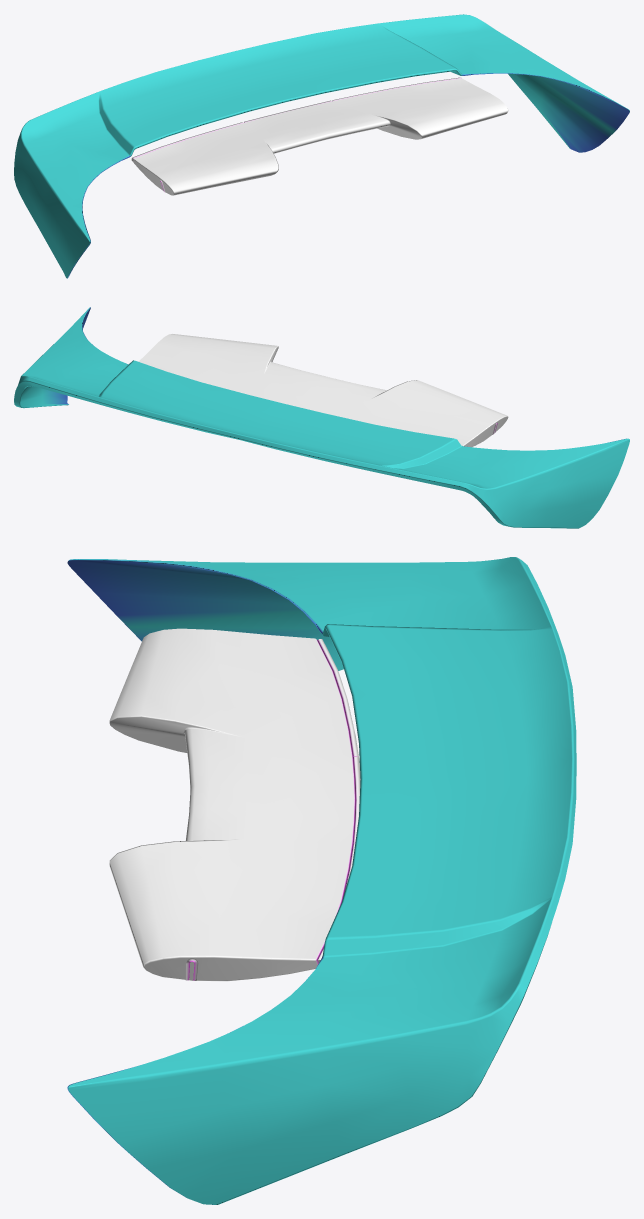
File: Car_Ford_GT_2017_Spoiler_SetD.fbx
3 views of the same model, one above another, from view 1: azimuth 30°, elevation 25°; view 2: azimuth 150°, elevation 25°; view 3: azimuth 270°, elevation 25° (orthographic). The views are drawn at different scales.
Visible parts, largest first — view 1: Spoiler 6; view 2: Spoiler 6; view 3: Spoiler 6.
Part boxes in pixels (box(x1,y1,x2,y2)): Spoiler 6: box(14, 14, 629, 278); Spoiler 6: box(14, 307, 629, 528); Spoiler 6: box(67, 557, 576, 1204).
Size of the model in its own units: 1.82 by 0.3154 by 0.7409.
